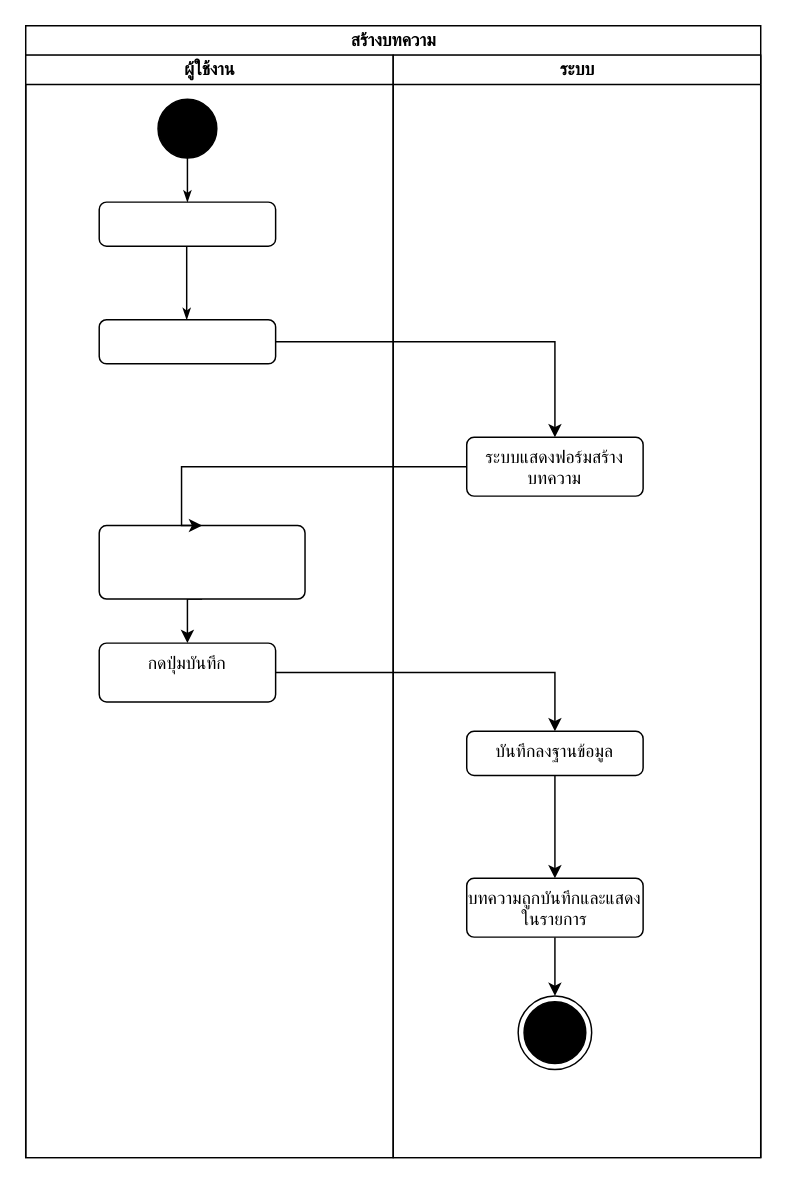
The diagram is 786 pixels wide and 1183 high, and some of its shapes have lost their labels. The shapes that lost their labels are listed below. From the top down, each one's centre as x and y in pixels, then its label:
At point 187,223: "เข้าสู่ระบบ".
At point 187,341: "กดปุ่มสร้างบทความ".
At point 201,561: "กรอกชื่อหัวข้อ รายละเอียดบทความสำหรับบทความ รูปภาพ".
